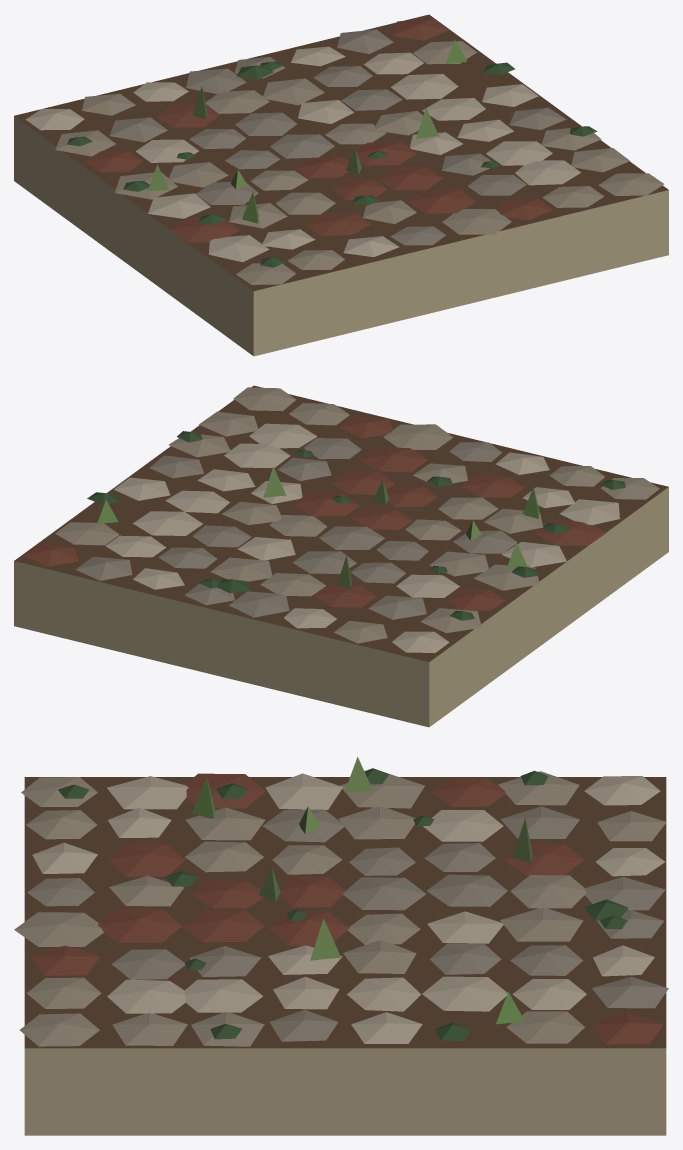
File: t_cobble_c.glb
3 renders of one model, top to bottom at view 1: azimuth 30°, elevation 25°; view 2: azimuth 150°, elevation 25°; view 3: azimuth 270°, elevation 25°, orthographic. The views are drawn at different scales.
Visible parts, largest first — view 1: t_cobble_c; view 2: t_cobble_c; view 3: t_cobble_c.
Part boxes in pixels (box(x1,y1,x2,y2)): t_cobble_c: box(14, 14, 668, 356); t_cobble_c: box(14, 385, 668, 727); t_cobble_c: box(14, 756, 668, 1135).
Bounding box in the file's own units: 2.04 × 0.4642 × 2.04.
